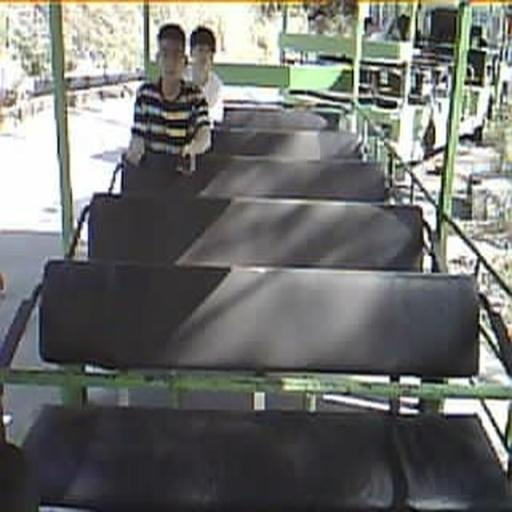persona: (123, 22, 213, 174), (186, 25, 226, 128)
